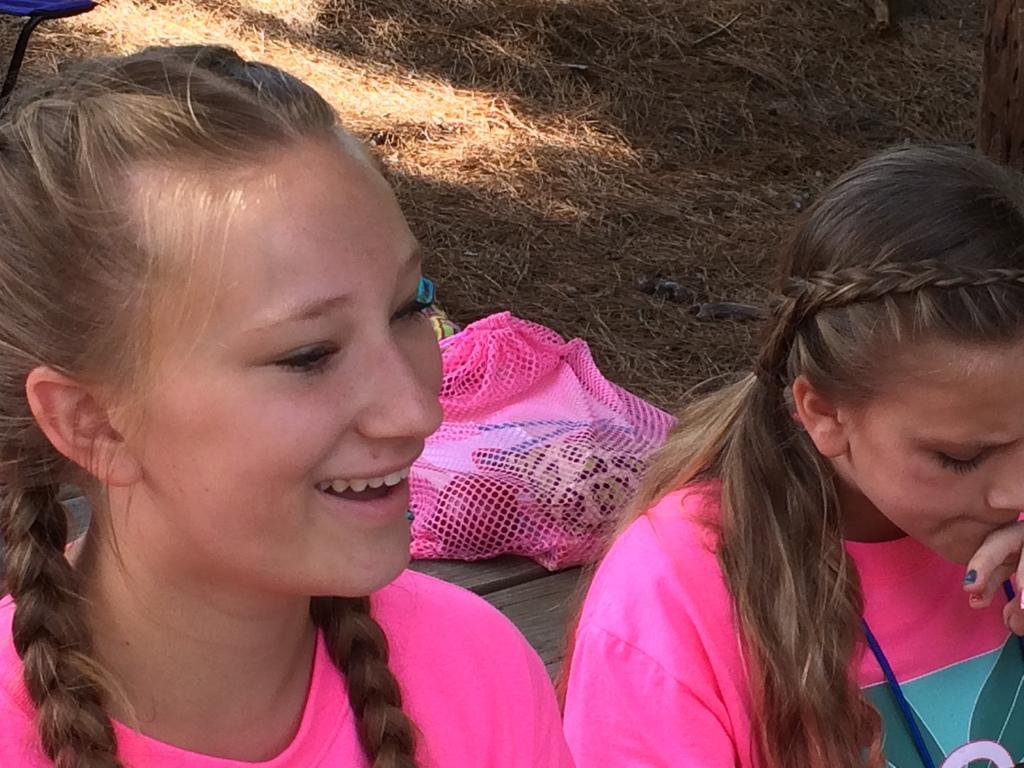Sem Máscara: (104, 123, 445, 600), (842, 338, 1021, 568)
